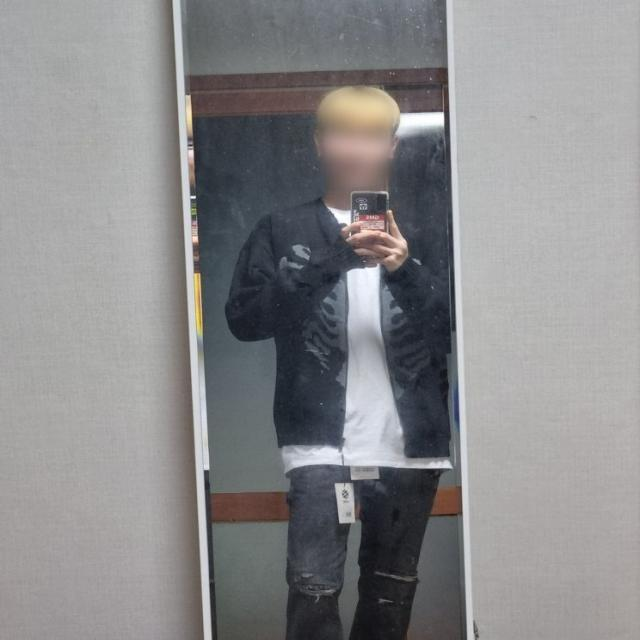cardigan: (226, 194, 456, 461)
denimpants: (285, 460, 443, 640)
